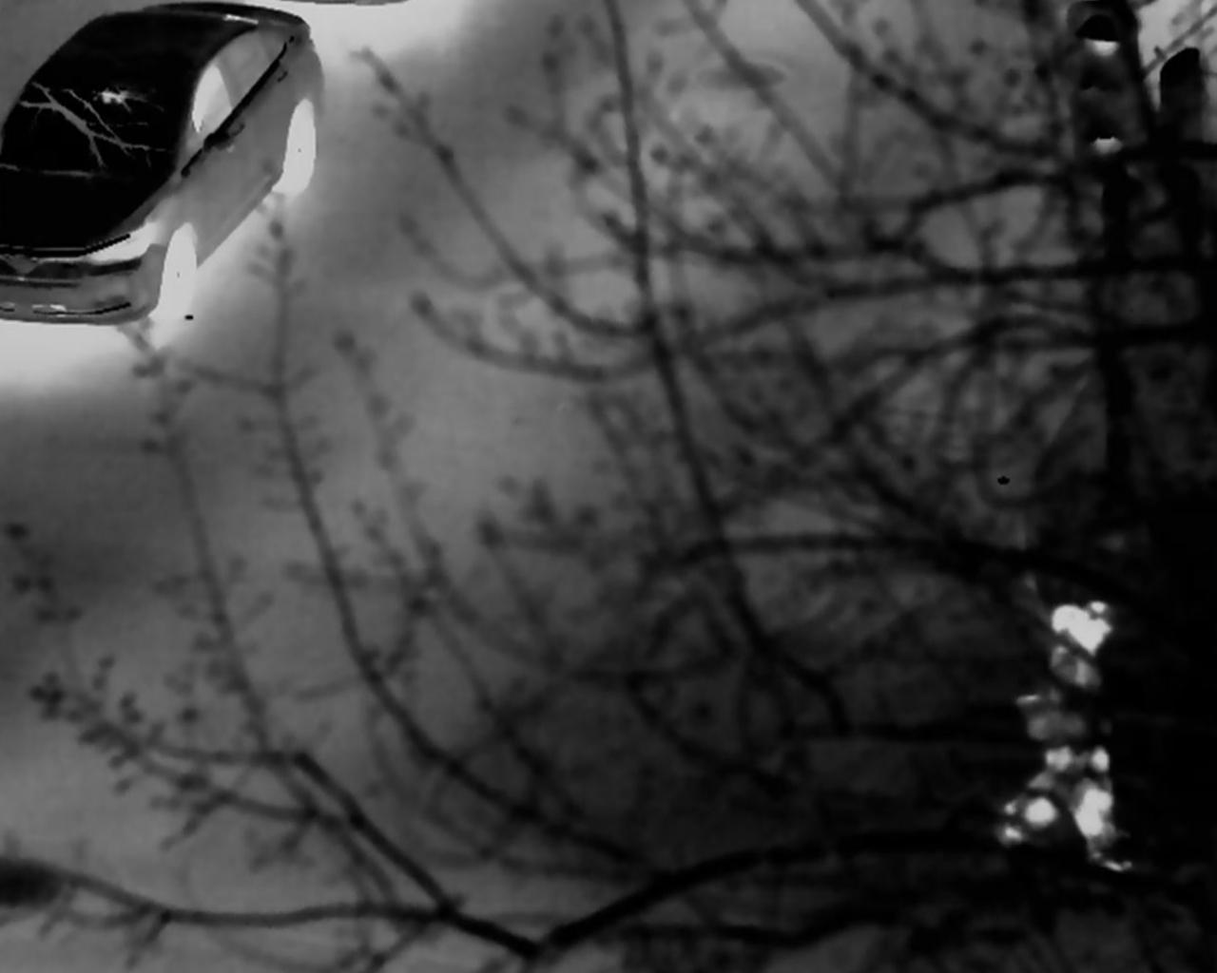person: (1007, 605, 1139, 884)
